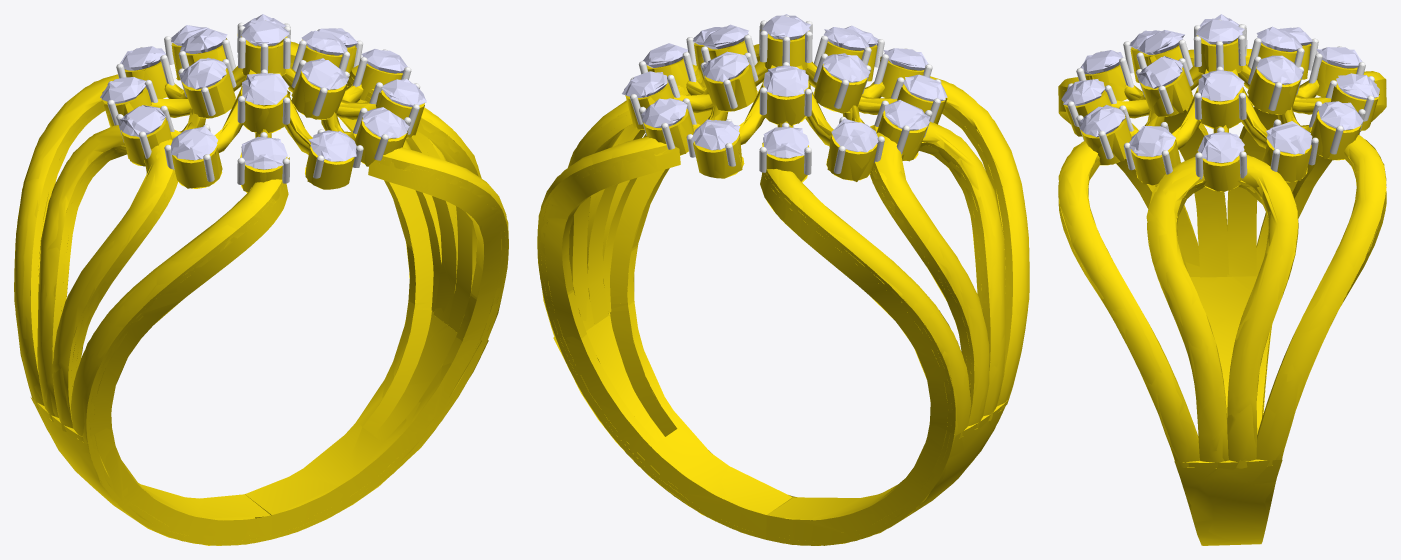
File: DLR-D000619536.glb
3 views of the same model, side by side, from view 1: azimuth 30°, elevation 25°; view 2: azimuth 150°, elevation 25°; view 3: azimuth 270°, elevation 25° (orthographic).
Visible parts, largest first — view 1: highPolyMesh, lowPolyMesh; view 2: highPolyMesh, lowPolyMesh; view 3: highPolyMesh, lowPolyMesh.
Part boxes in pixels (x1,y1,x2,y2): highPolyMesh: (14, 18, 508, 545); lowPolyMesh: (14, 14, 508, 545); highPolyMesh: (537, 15, 1029, 545); lowPolyMesh: (537, 14, 1029, 545); highPolyMesh: (1058, 18, 1386, 545); lowPolyMesh: (1058, 14, 1386, 545).
Bounding box in the file's own units: 0.0199 × 0.0227 × 0.0135.
